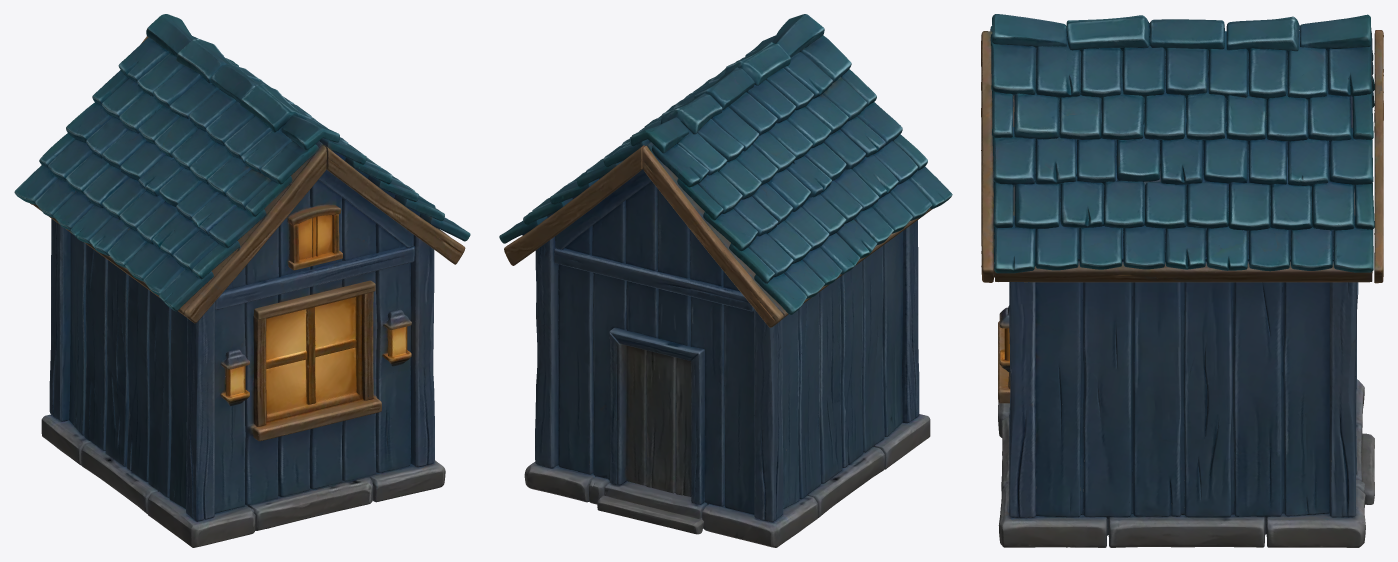
Rendered from act3_cottage.glb.
3 renders of one model, left to right at view 1: azimuth 30°, elevation 25°; view 2: azimuth 150°, elevation 25°; view 3: azimuth 270°, elevation 25°, orthographic. The views are drawn at different scales.
Parts seen in each view (by area): view 1: model; view 2: model; view 3: model.
Part boxes in pixels (box(x1,y1,x2,y2)): model: box(14, 14, 470, 547); model: box(499, 14, 952, 547); model: box(981, 14, 1383, 547).
Size of the model in its own units: 0.7972 by 1 by 0.7902.
1 material, 1 textured.
